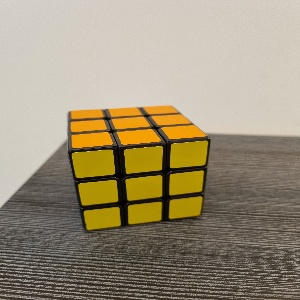cube: (67, 105, 211, 231)
